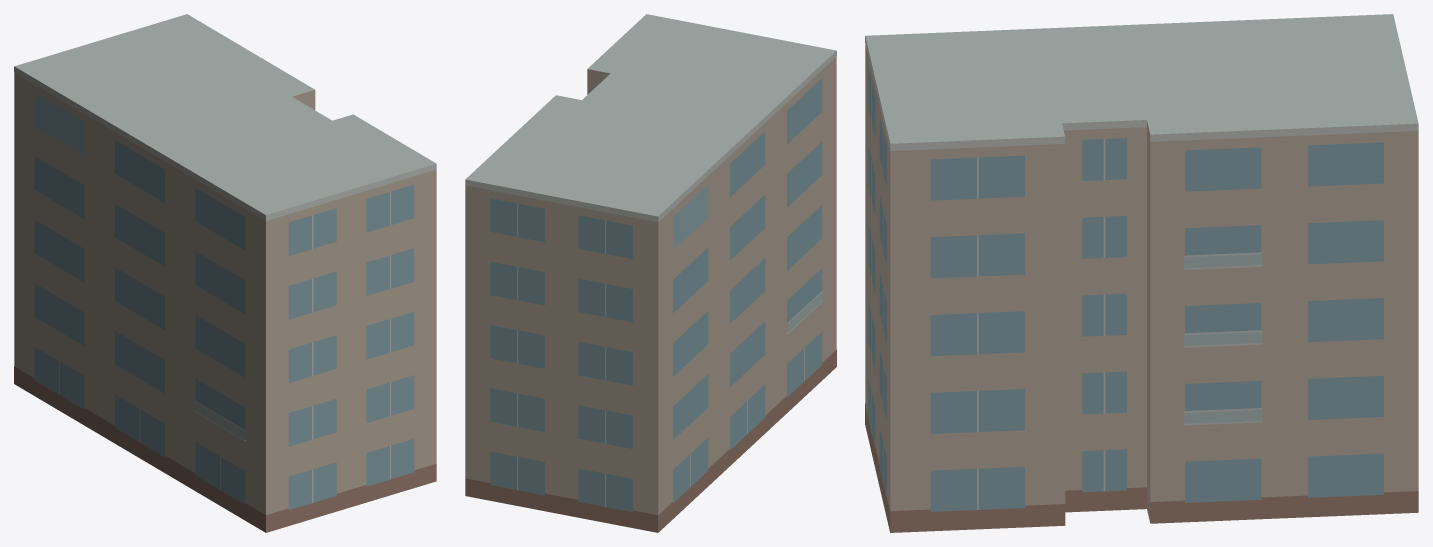
Rendered from survey-upis-32907240.glb.
3 renders of one model, left to right at view 1: azimuth 30°, elevation 25°; view 2: azimuth 150°, elevation 25°; view 3: azimuth 270°, elevation 25°, orthographic. The views are drawn at different scales.
Visible parts, largest first — view 1: survey-upis-32907240.tmp; view 2: survey-upis-32907240.tmp; view 3: survey-upis-32907240.tmp.
Part boxes in pixels (left/top/right/bottom): survey-upis-32907240.tmp: left=14, top=14, right=436, bottom=532; survey-upis-32907240.tmp: left=465, top=14, right=836, bottom=532; survey-upis-32907240.tmp: left=865, top=14, right=1418, bottom=532.
Bounding box in the file's own units: 9.38 × 13.1 × 16.9.
